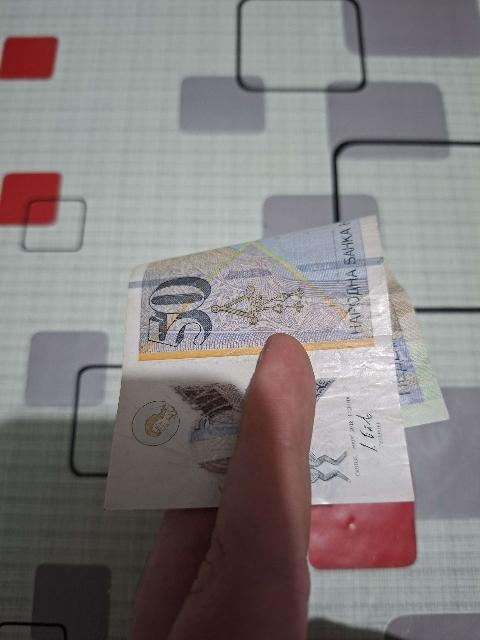note: (103, 219, 444, 522)
